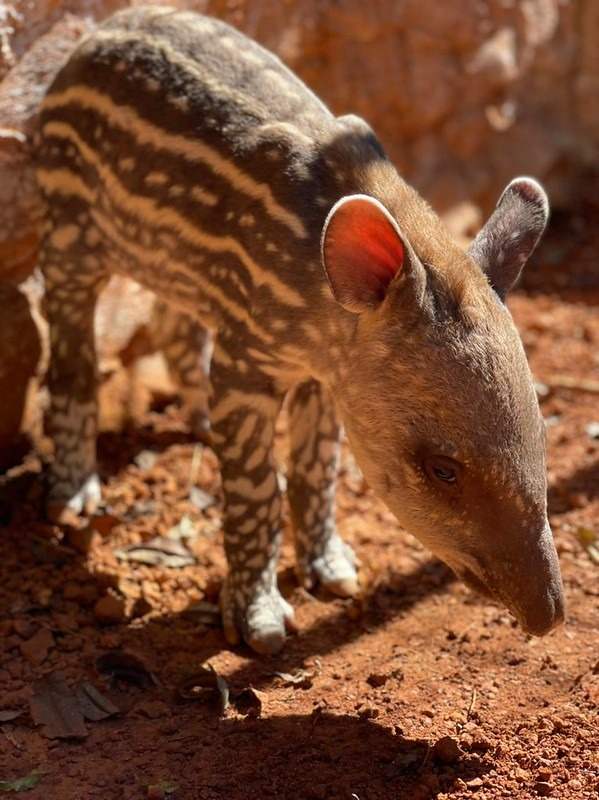Anta: (22, 6, 570, 668)
